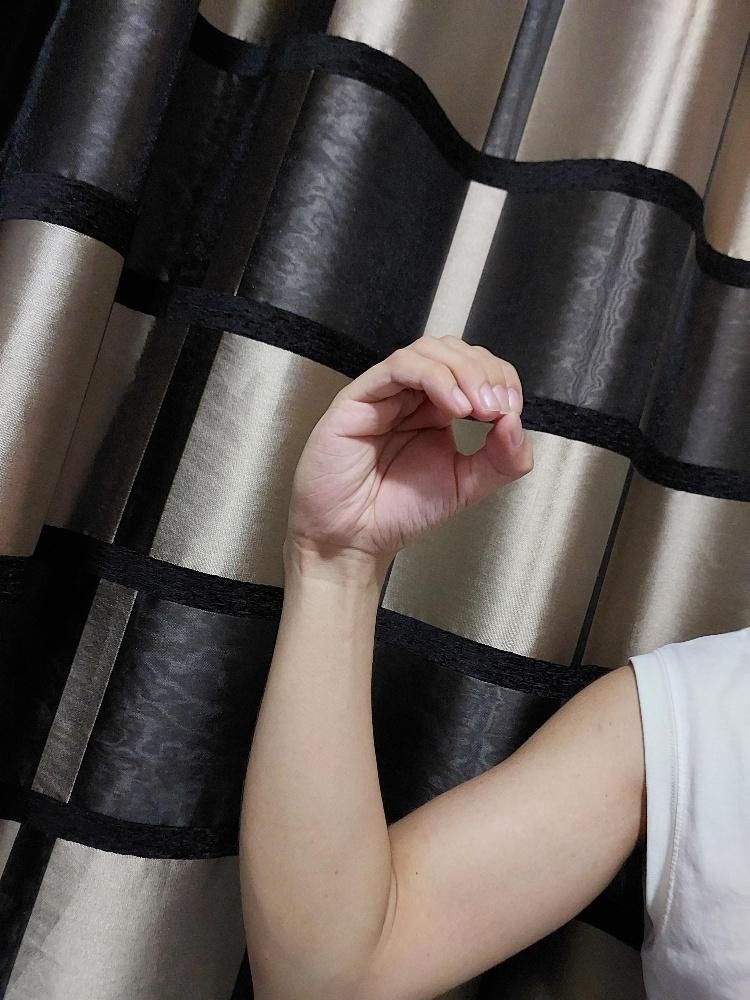o: (288, 331, 538, 557)
